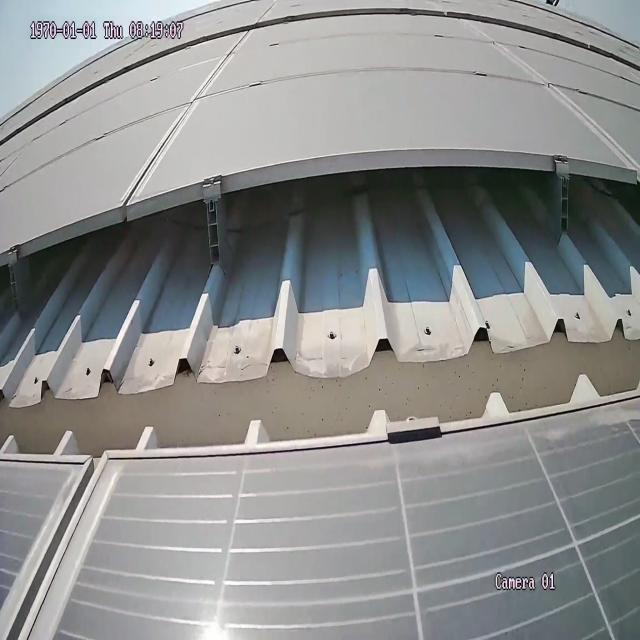interior panel: (476, 29, 628, 163), (2, 476, 122, 640), (127, 34, 246, 191)
outher panel: (1, 158, 636, 460)
